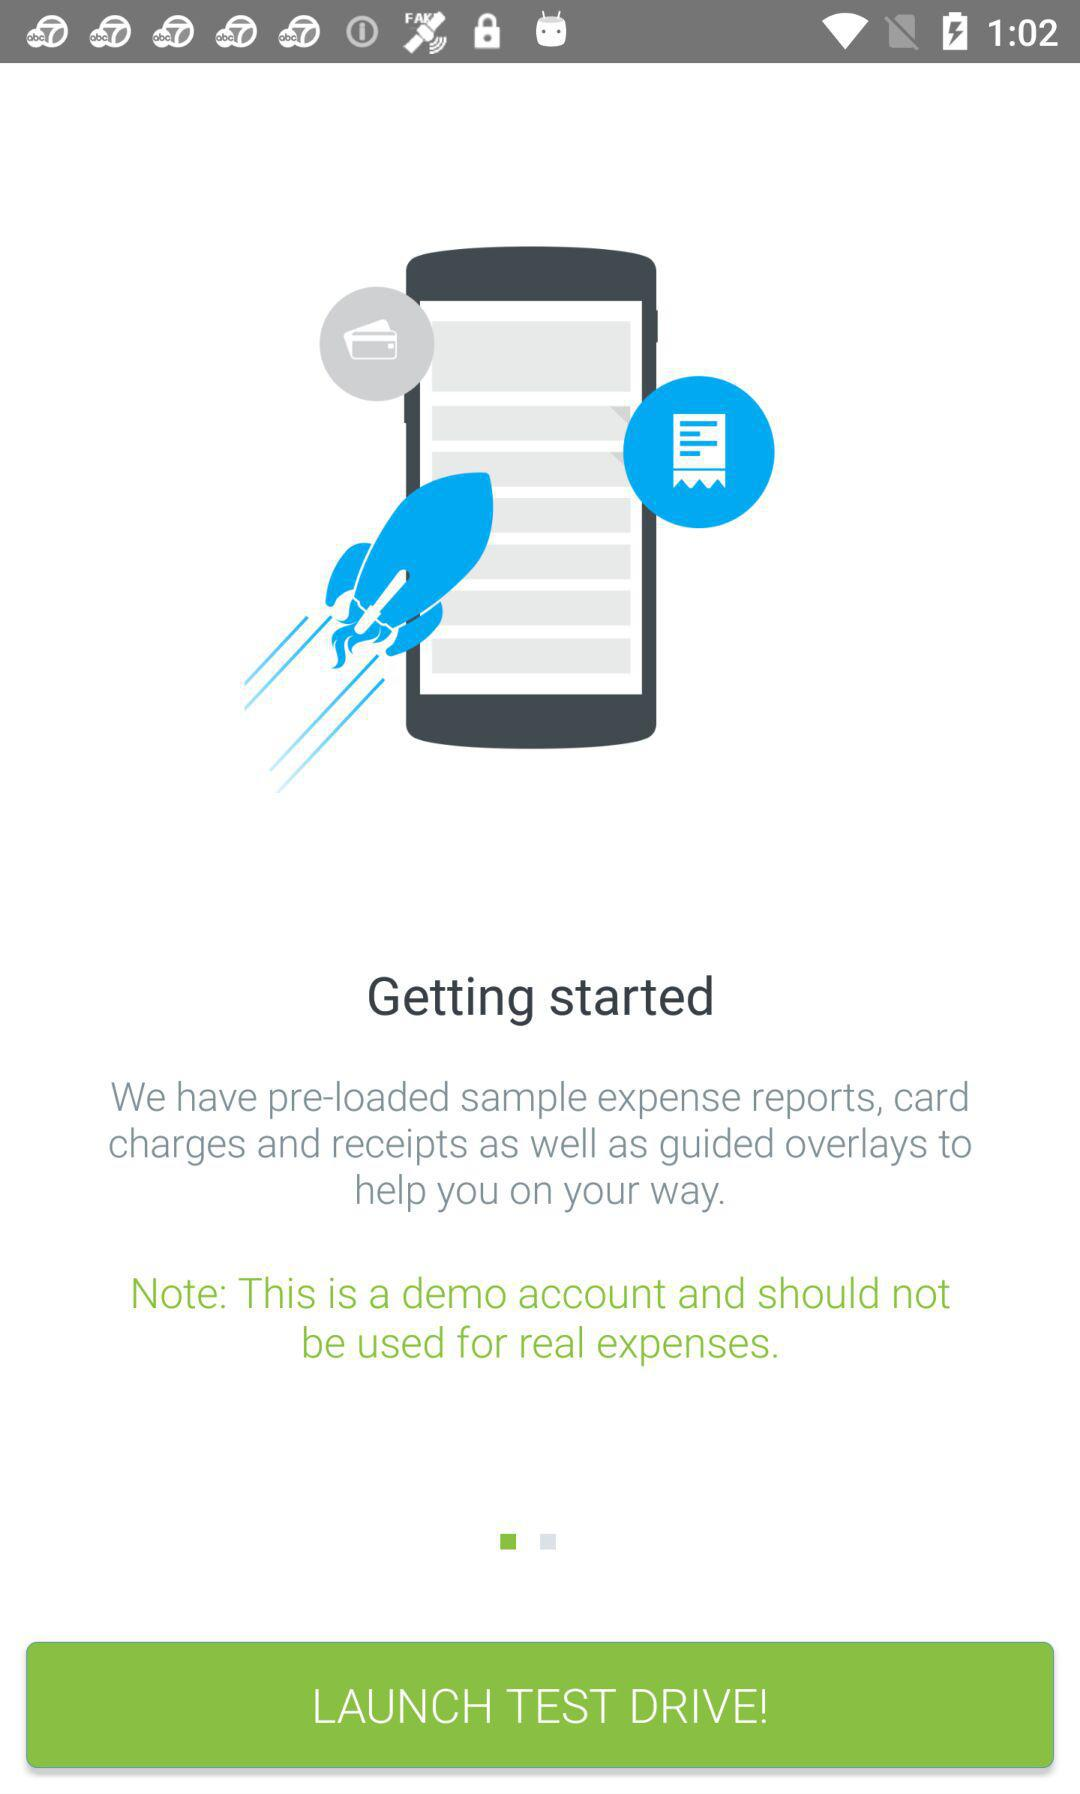Image: (242, 243, 778, 798)
PageIndicator: (498, 1533, 559, 1552)
Text: (109, 1079, 972, 1215), (132, 1275, 951, 1370), (368, 974, 714, 1028)
TextButton: (26, 1642, 1054, 1768)
UpperTaskBar: (1, 1, 1080, 64)
